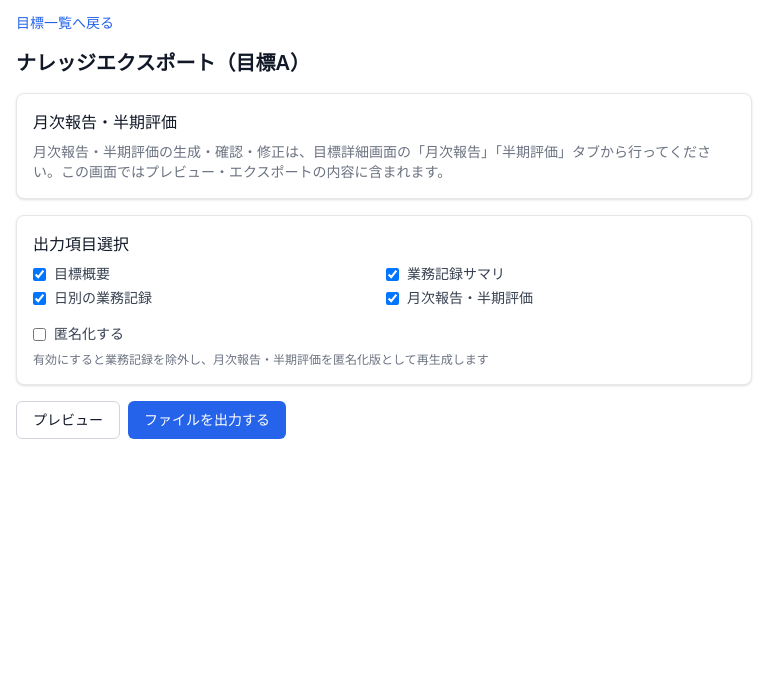
Test case: KnowledgeExportPage の学習サマリ › shows the record-days summary for a work goal
Click the button "プレビュー".
click(68, 420)  # box top-left (16, 401), bottom-right (120, 439)
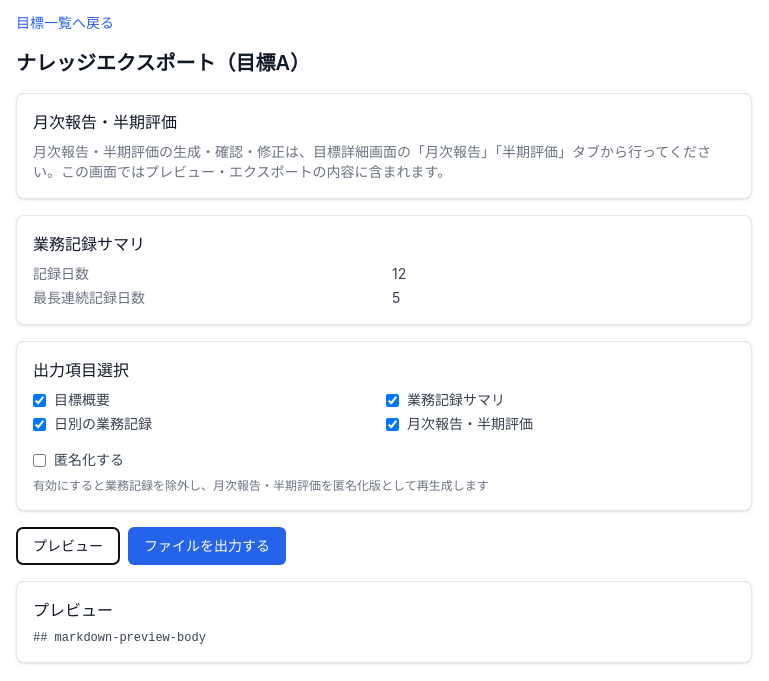
Result: the heading "業務記録サマリ" is shown at top-left (33, 234), bottom-right (145, 254)
